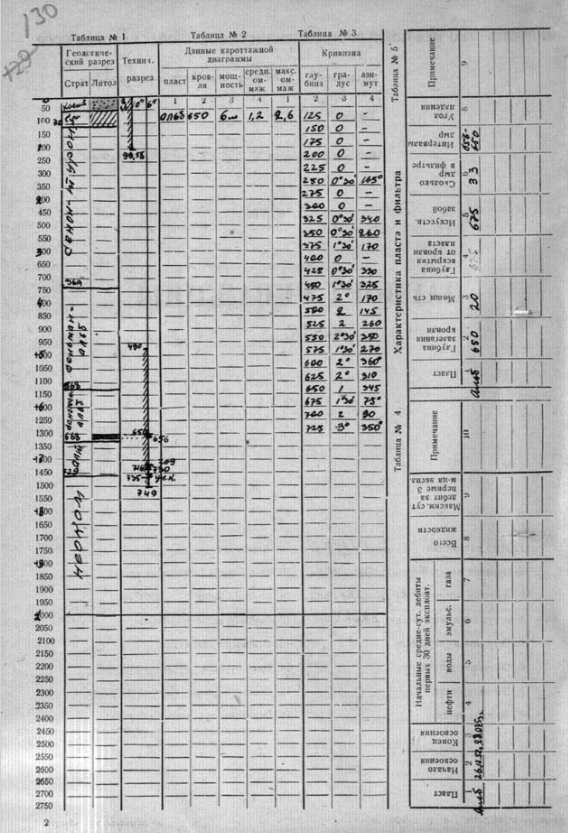Bordered: (297, 38, 388, 437)
